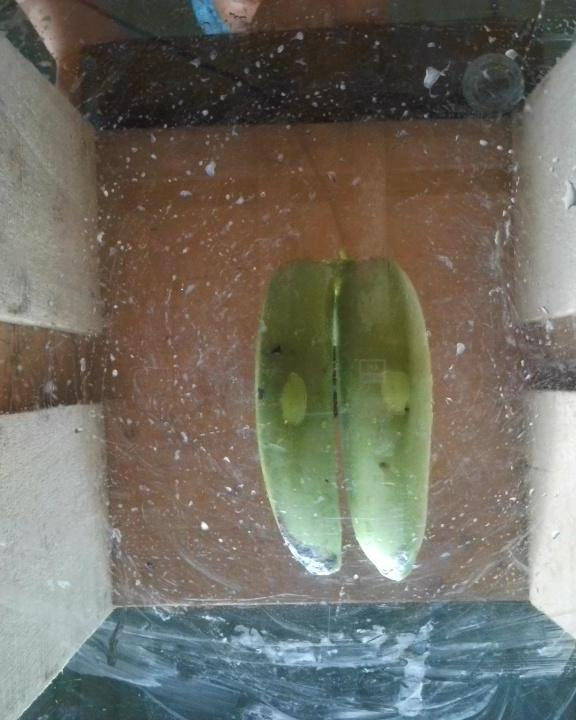CLASS B: (246, 253, 453, 584)
Class A: (282, 514, 341, 572), (263, 335, 293, 361), (253, 383, 273, 410), (370, 459, 401, 476)
